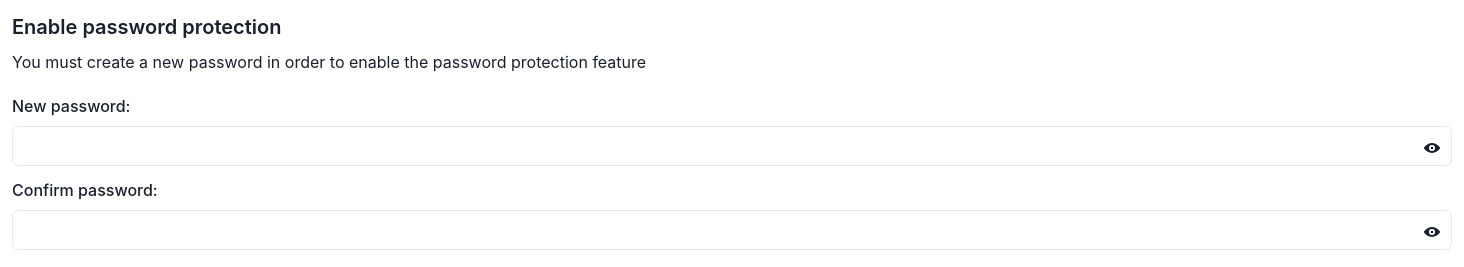
Test: EnablePasswordForm › should submit successfully
Type "supersecretpassword" into the password field labelled "New password:".
click(732, 146); type("supersecretpassword")  # box [12,126,1452,166]
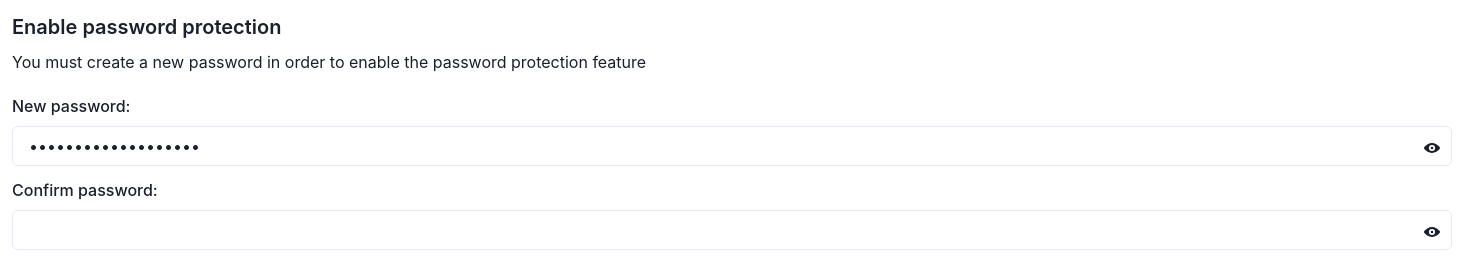
Type "supersecretpassword" into the password field labelled "Confirm password:".
click(732, 230); type("supersecretpassword")  # box [12,210,1452,250]
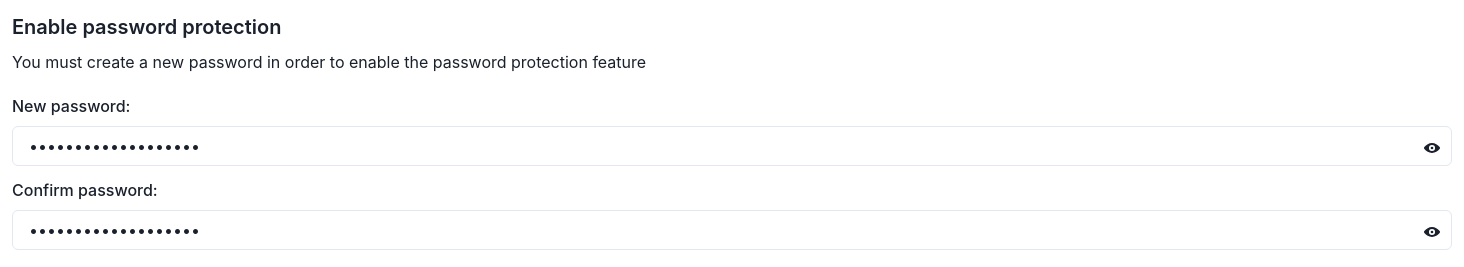
Submit the form, box [12,94,1452,250]
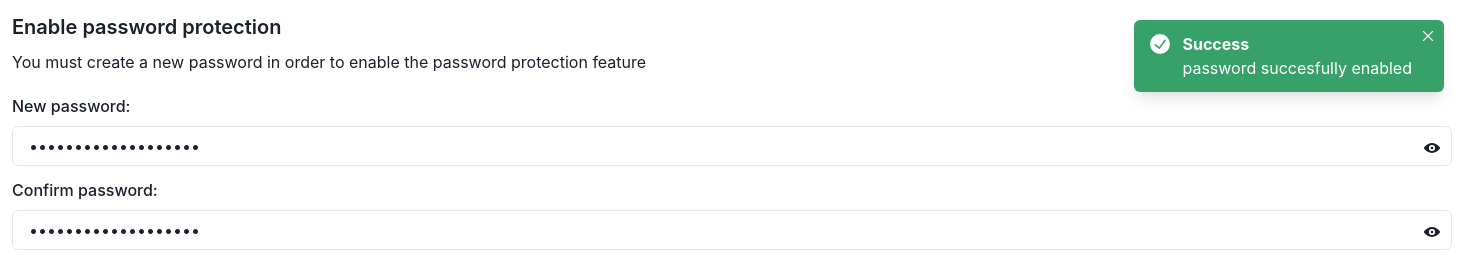
Result: the 1st text "password succesfully enabled" is shown at [1182,56,1412,80]
